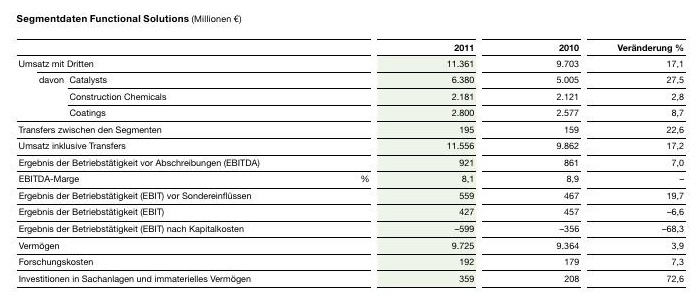table: (0, 0, 697, 298)
